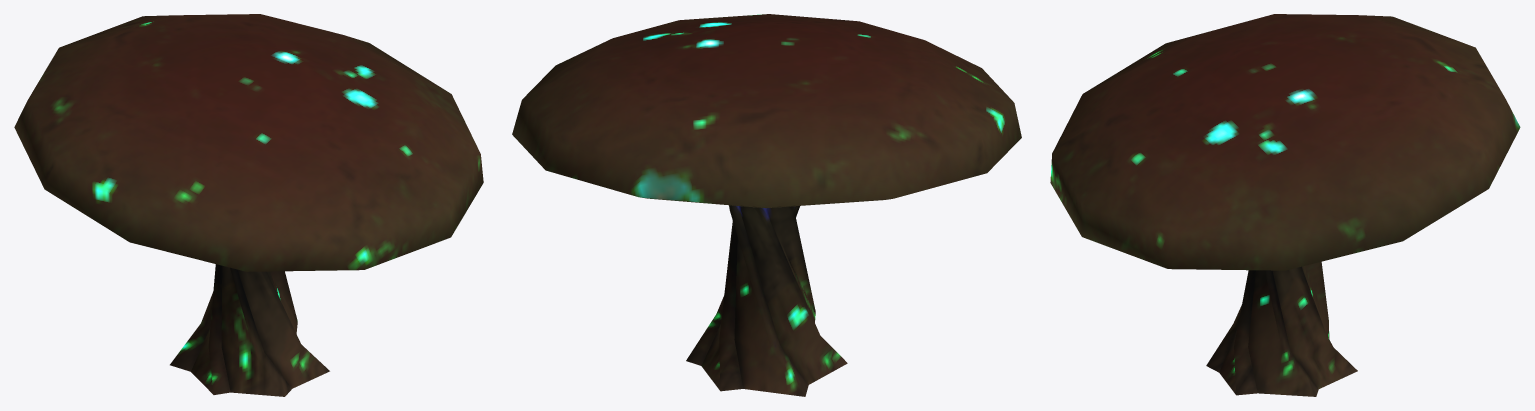
Rendered from Mushroom_Low_01.fbx.
3 renders of one model, left to right at view 1: azimuth 30°, elevation 25°; view 2: azimuth 150°, elevation 25°; view 3: azimuth 270°, elevation 25°, orthographic. The views are drawn at different scales.
Parts seen in each view (by area): view 1: pSphere2; view 2: pSphere2; view 3: pSphere2.
Boxes of the visible parts, x1,y1,x2,y2 form: pSphere2: (14, 14, 483, 396); pSphere2: (512, 14, 1021, 396); pSphere2: (1050, 14, 1520, 396).
Bounding box in the file's own units: 5.97 × 4.19 × 5.93.
1 material, 1 textured.
